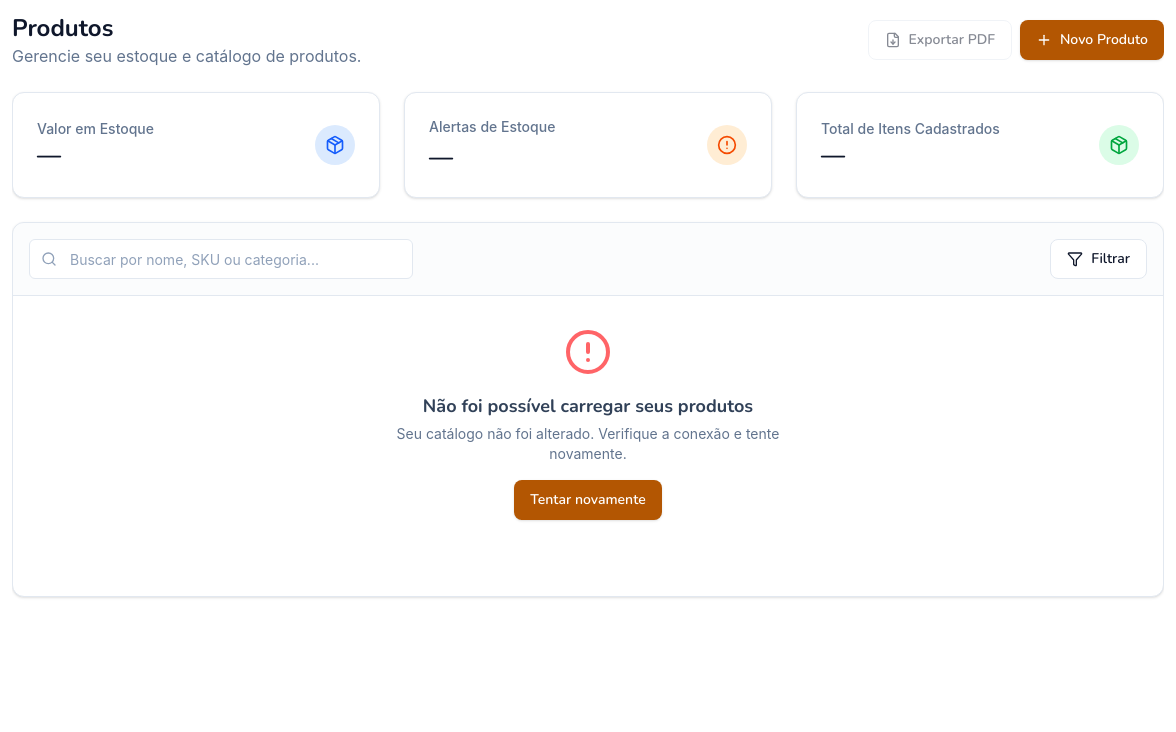
it: falha ao carregar não vira catálogo vazio e permite repetir (G10)
Expected: the heading "Não foi possível carregar seus produtos" is shown, left=423, top=392, right=753, bottom=420
Expected: the text "Cadastrar Primeiro Produto" is not shown
Step 1. Click the button "Tentar novamente" → (588, 500), box left=514, top=480, right=662, bottom=520
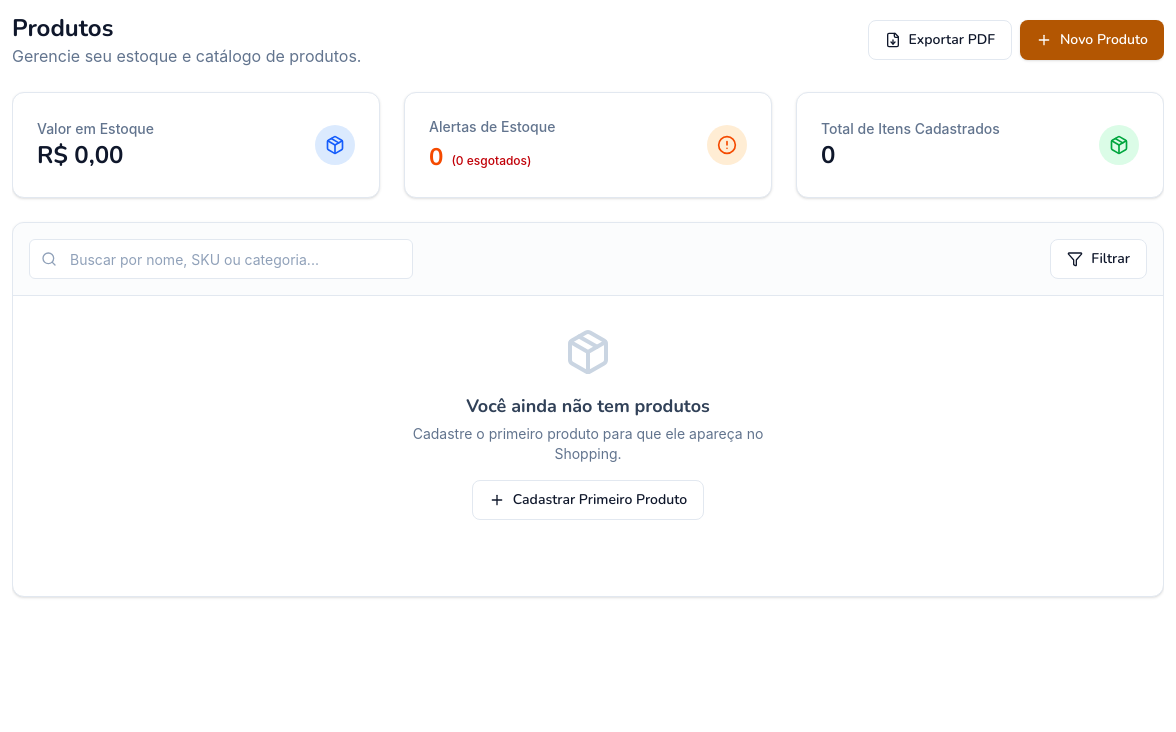
Expected: the heading "Você ainda não tem produtos" is shown, left=466, top=392, right=710, bottom=420
